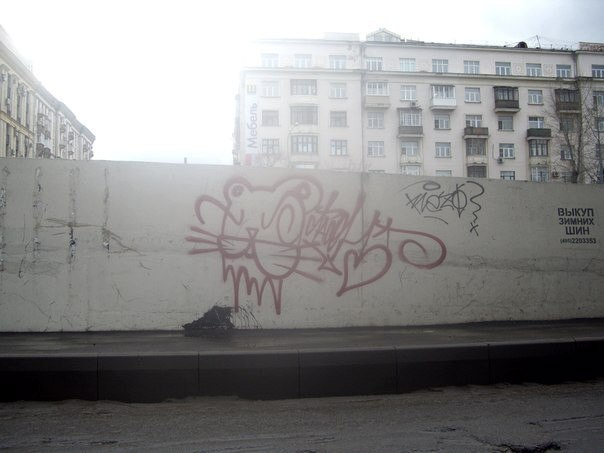graffity: (191, 167, 453, 318), (396, 174, 487, 240), (551, 201, 600, 251)
